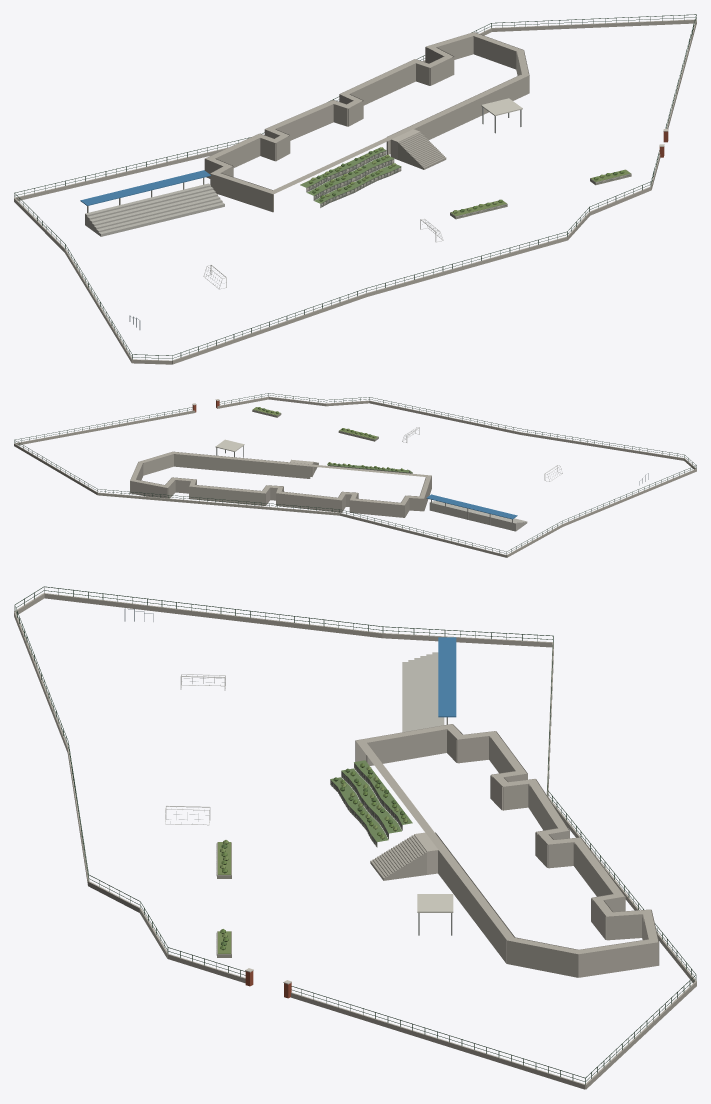
The picture shows the model from 3 angles, top to bottom: view 1: azimuth 30°, elevation 25°; view 2: azimuth 150°, elevation 25°; view 3: azimuth 270°, elevation 25°; orthographic projection. The views are drawn at different scales.
Visible parts, largest first — view 1: site_wall-concrete, site_terrace-paving, site_stand_terraces, site_fence, site_student-bank-planting, site_student-entrance-steps, site_stand_blue_roof, site_student-bank-joints; view 2: site_wall-concrete, site_fence, site_terrace-paving, site_stand_terraces, site_stand_blue_roof; view 3: site_wall-concrete, site_terrace-paving, site_fence, site_stand_terraces, site_student-bank-planting, site_student-entrance-steps, site_stand_blue_roof.
Part boxes in pixels (x1=…): site_wall-concrete: x1=14, y1=19, x2=696, y2=364; site_terrace-paving: x1=205, y1=32, x2=528, y2=194; site_stand_terraces: x1=85, y1=183, x2=224, y2=236; site_fence: x1=14, y1=14, x2=696, y2=360; site_student-bank-planting: x1=300, y1=148, x2=401, y2=203; site_student-entrance-steps: x1=398, y1=132, x2=446, y2=169; site_stand_blue_roof: x1=80, y1=170, x2=210, y2=205; site_student-bank-joints: x1=306, y1=150, x2=401, y2=207; site_wall-concrete: x1=14, y1=396, x2=696, y2=557; site_fence: x1=14, y1=393, x2=696, y2=554; site_terrace-paving: x1=130, y1=451, x2=431, y2=505; site_stand_terraces: x1=429, y1=501, x2=527, y2=531; site_stand_blue_roof: x1=426, y1=494, x2=517, y2=519; site_wall-concrete: x1=14, y1=593, x2=696, y2=1089; site_terrace-paving: x1=356, y1=724, x2=658, y2=954; site_fence: x1=14, y1=586, x2=696, y2=1084; site_stand_terraces: x1=402, y1=652, x2=444, y2=732; site_student-bank-planting: x1=330, y1=760, x2=412, y2=842; site_student-entrance-steps: x1=370, y1=835, x2=426, y2=880; site_stand_blue_roof: x1=438, y1=637, x2=456, y2=717.
Bounding box in the file's own units: 193 × 5.12 × 113.
